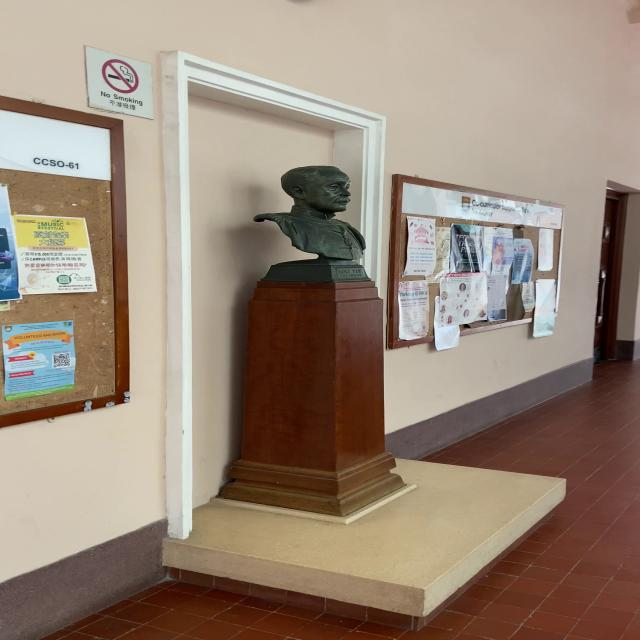statues: (240, 160, 388, 285)
